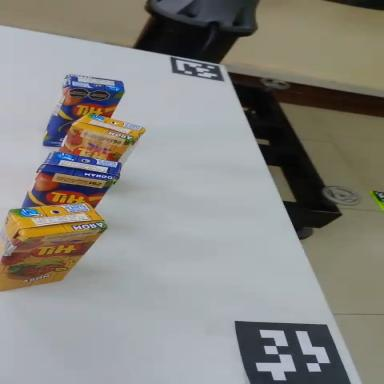HIT-MANGO: (44, 72, 126, 156), (22, 151, 120, 216)
HIT-MORA: (0, 192, 115, 292), (58, 109, 146, 168)
cara_F: (37, 67, 125, 168), (0, 221, 115, 291), (25, 169, 115, 220), (59, 123, 131, 170)
